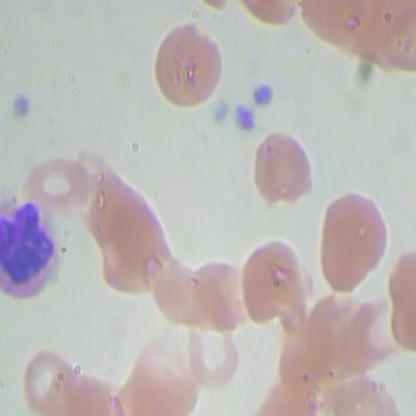Platelets: (248, 77, 275, 111), (10, 93, 36, 126), (233, 104, 255, 136), (209, 95, 231, 127)
RBC: (313, 189, 389, 293), (233, 224, 309, 328), (153, 20, 227, 110), (252, 127, 317, 211), (22, 149, 96, 211), (184, 316, 243, 390), (189, 259, 248, 333), (19, 341, 78, 415), (345, 294, 404, 367)
WBC: (1, 194, 61, 304)
